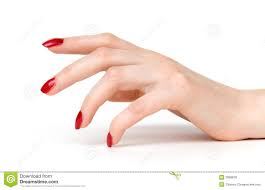hand: (30, 24, 232, 159)
